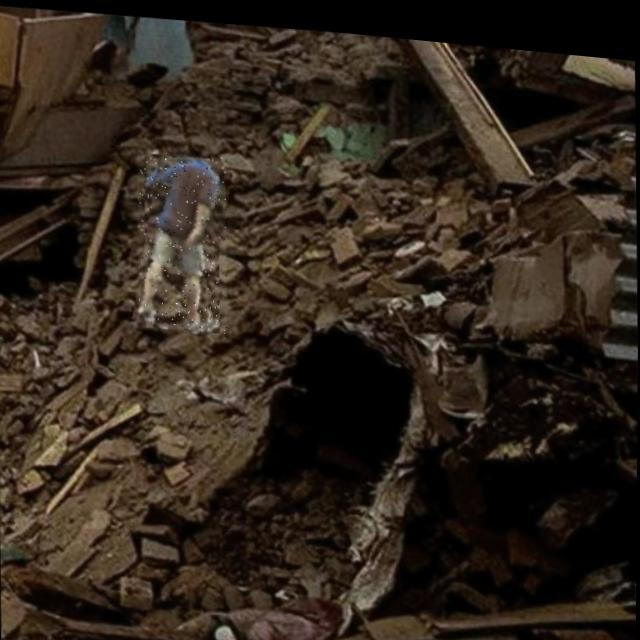Person in Rubble: (136, 146, 228, 333)
